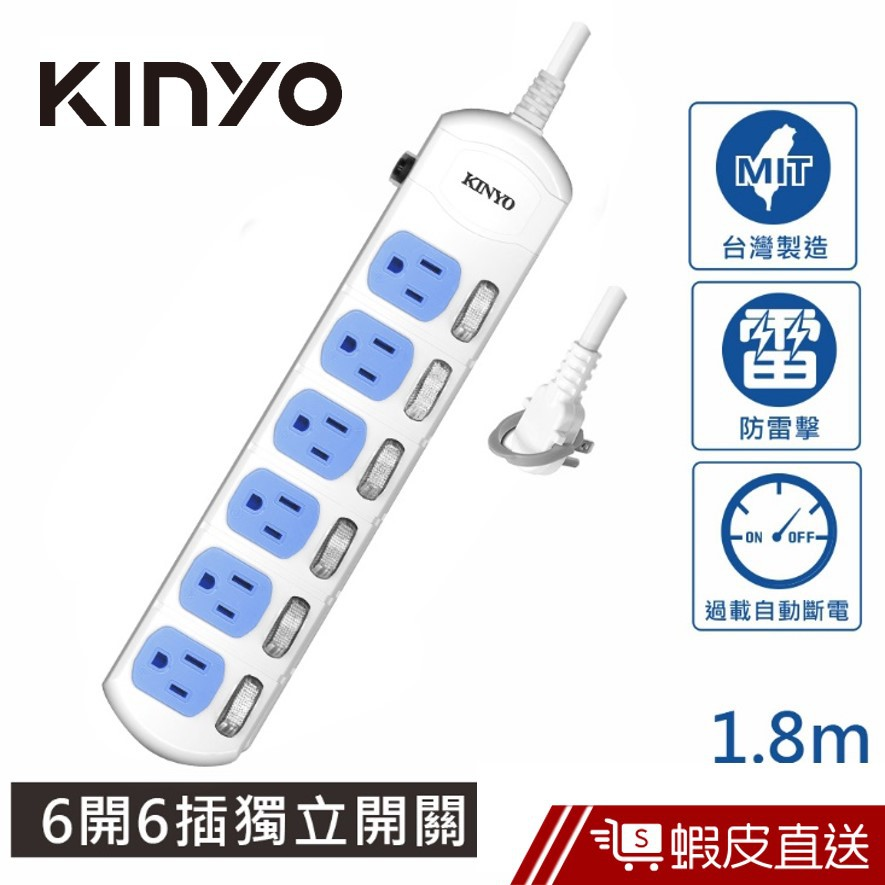socket: (102, 69, 569, 771)
